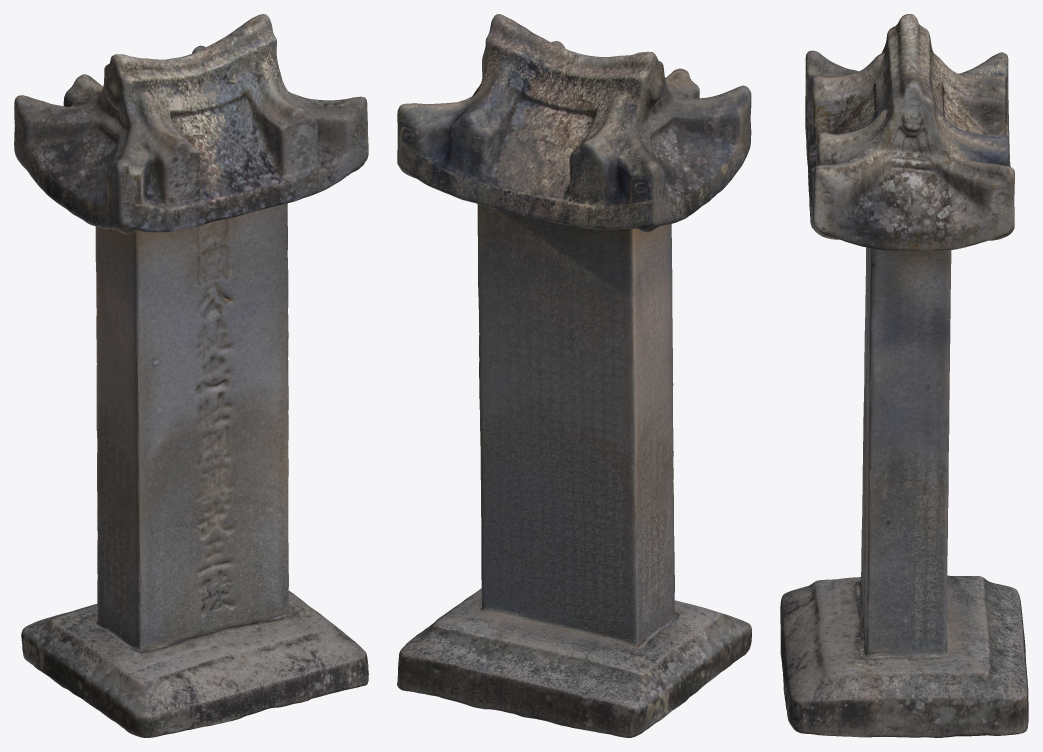
File: monument_002.glb
The picture shows the model from 3 angles, left to right: view 1: azimuth 30°, elevation 25°; view 2: azimuth 150°, elevation 25°; view 3: azimuth 270°, elevation 25°; orthographic projection. The views are drawn at different scales.
Visible parts, largest first — view 1: Object_2, Object_3; view 2: Object_2, Object_3; view 3: Object_2, Object_3.
Boxes of the visible parts, x1,y1,x2,y2 form: Object_2: [14, 54, 368, 737]; Object_3: [14, 14, 368, 718]; Object_2: [397, 46, 751, 737]; Object_3: [397, 14, 751, 698]; Object_2: [780, 14, 1028, 737]; Object_3: [784, 14, 1028, 735].
Bounding box in the file's own units: 1.12 × 2.65 × 0.9447.
Materials: 1 (1 with a texture image).
